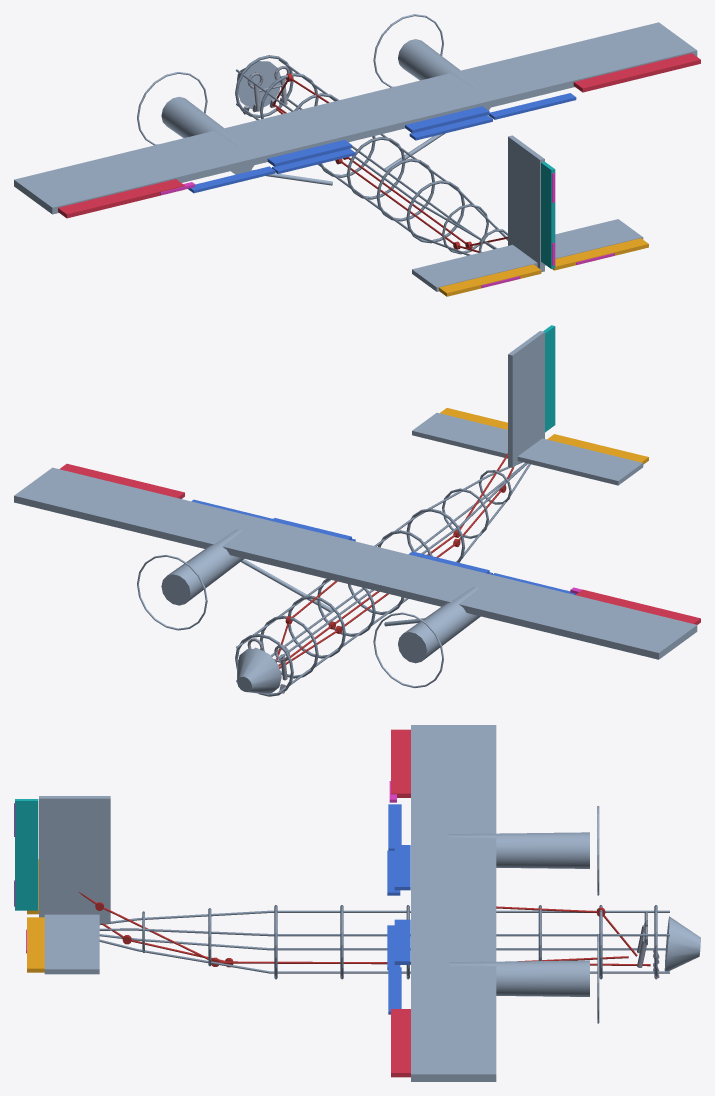
File: flight_controls_training.glb
The picture shows the model from 3 angles, top to bottom: view 1: azimuth 30°, elevation 25°; view 2: azimuth 150°, elevation 25°; view 3: azimuth 270°, elevation 25°; orthographic projection. The views are drawn at different scales.
Visible parts, largest first — view 1: ctx_wing, ctx_tail, ctx_body_frame, ctx_nacelles, surface_aileron_r, surface_aileron_l, surface_flap_inb_r, surface_flap_inb_l, surface_rudder, ctx_nose, surface_elevator_l, surface_elevator_r (+5 smaller); view 2: ctx_wing, ctx_tail, ctx_nacelles, ctx_body_frame, ctx_nose, surface_rudder, surface_aileron_l, surface_aileron_r, surface_elevator_l, cable_elevator_run, ctx_lift_struts, cable_rudder_run; view 3: ctx_wing, ctx_tail, ctx_nacelles, ctx_body_frame, surface_rudder, surface_aileron_r, surface_aileron_l, ctx_nose, surface_flap_inb_l, surface_flap_inb_r, cable_rudder_run, surface_elevator_r (+3 smaller).
Boxes of the visible parts, bbox=[...] form: ctx_wing: bbox=[14, 22, 697, 214]; ctx_tail: bbox=[412, 135, 643, 291]; ctx_body_frame: bbox=[235, 55, 507, 255]; ctx_nacelles: bbox=[137, 14, 490, 174]; surface_aileron_r: bbox=[573, 53, 700, 92]; surface_aileron_l: bbox=[58, 179, 184, 218]; surface_flap_inb_r: bbox=[405, 106, 492, 140]; surface_flap_inb_l: bbox=[267, 140, 355, 173]; surface_rudder: bbox=[541, 161, 555, 268]; ctx_nose: bbox=[237, 61, 280, 108]; surface_elevator_l: bbox=[439, 264, 541, 296]; surface_elevator_r: bbox=[552, 238, 648, 270]; ctx_wing: bbox=[14, 467, 697, 659]; ctx_tail: bbox=[412, 331, 643, 485]; ctx_nacelles: bbox=[137, 529, 480, 688]; ctx_body_frame: bbox=[235, 462, 530, 696]; ctx_nose: bbox=[237, 648, 281, 693]; surface_rudder: bbox=[543, 325, 555, 432]; surface_aileron_l: bbox=[575, 589, 700, 624]; surface_aileron_r: bbox=[59, 463, 184, 498]; surface_elevator_l: bbox=[547, 434, 648, 464]; cable_elevator_run: bbox=[279, 467, 514, 668]; ctx_lift_struts: bbox=[241, 559, 424, 626]; cable_rudder_run: bbox=[278, 453, 507, 666]; ctx_wing: bbox=[411, 725, 496, 1081]; ctx_tail: bbox=[39, 796, 110, 974]; ctx_nacelles: bbox=[448, 806, 599, 1023]; ctx_body_frame: bbox=[99, 905, 669, 979]; surface_rudder: bbox=[15, 799, 38, 910]; surface_aileron_r: bbox=[391, 1009, 410, 1077]; surface_aileron_l: bbox=[391, 729, 410, 797]; ctx_nose: bbox=[664, 916, 700, 971]; surface_flap_inb_l: bbox=[387, 845, 410, 895]; surface_flap_inb_r: bbox=[387, 919, 410, 970]; cable_rudder_run: bbox=[79, 892, 650, 966]; surface_elevator_r: bbox=[27, 917, 44, 972].
Size of the model in its own units: 3 by 0.7132 by 2.49.
